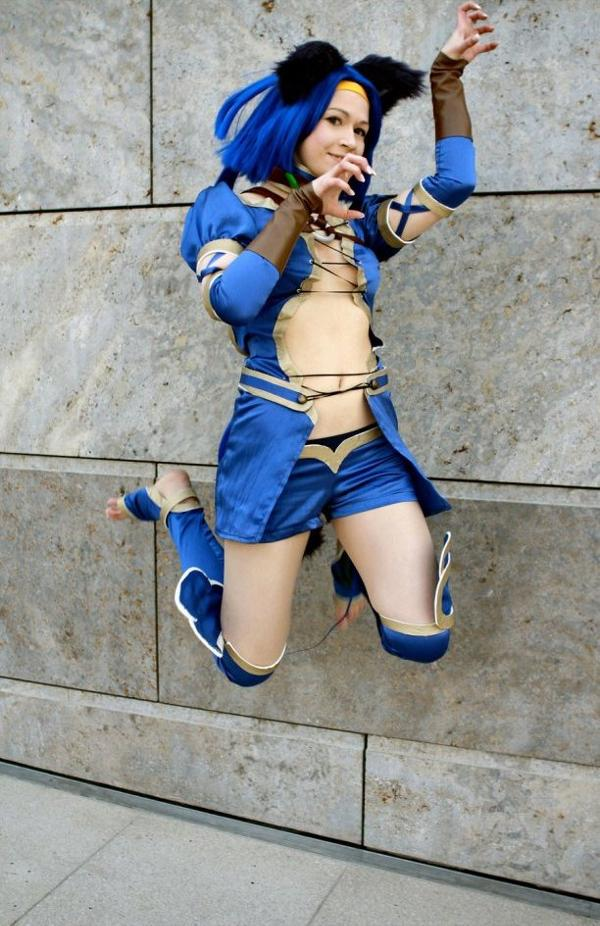person: (105, 5, 499, 689)
